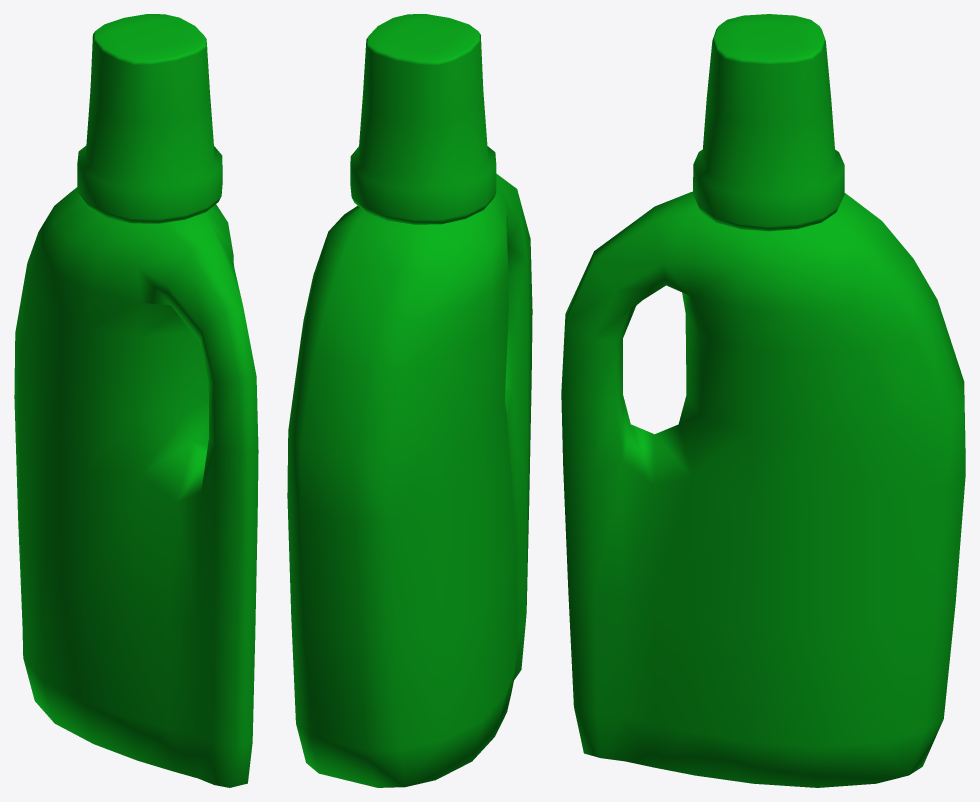
Rendered from Household_Products_04.fbx.
3 views of the same model, side by side, from view 1: azimuth 30°, elevation 25°; view 2: azimuth 150°, elevation 25°; view 3: azimuth 270°, elevation 25° (orthographic). The views are drawn at different scales.
Parts seen in each view (by area): view 1: Household_Products_04; view 2: Household_Products_04; view 3: Household_Products_04.
Part boxes in pixels (x1=…): Household_Products_04: x1=14, y1=14, x2=258, y2=787; Household_Products_04: x1=287, y1=14, x2=532, y2=787; Household_Products_04: x1=561, y1=14, x2=965, y2=787.
Size of the model in its own units: 51.25 by 203 by 104.
